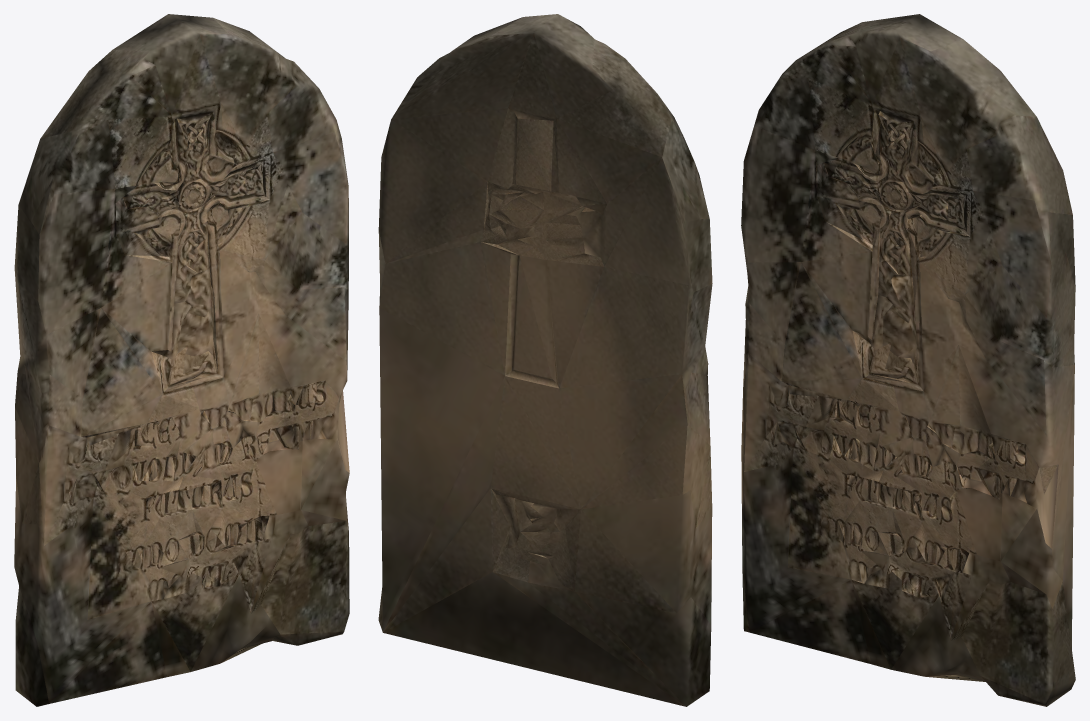
Rendered from gravestone.glb.
3 views of the same model, side by side, from view 1: azimuth 30°, elevation 25°; view 2: azimuth 150°, elevation 25°; view 3: azimuth 330°, elevation 25° (orthographic).
Visible parts, largest first — view 1: mesh_node; view 2: mesh_node; view 3: mesh_node.
Boxes of the visible parts, bbox=[...] form: mesh_node: bbox=[14, 14, 349, 706]; mesh_node: bbox=[378, 14, 712, 706]; mesh_node: bbox=[741, 14, 1075, 706].
Bounding box in the file's own units: 0.967 × 1.9 × 0.1413.
1 material, 1 textured.
